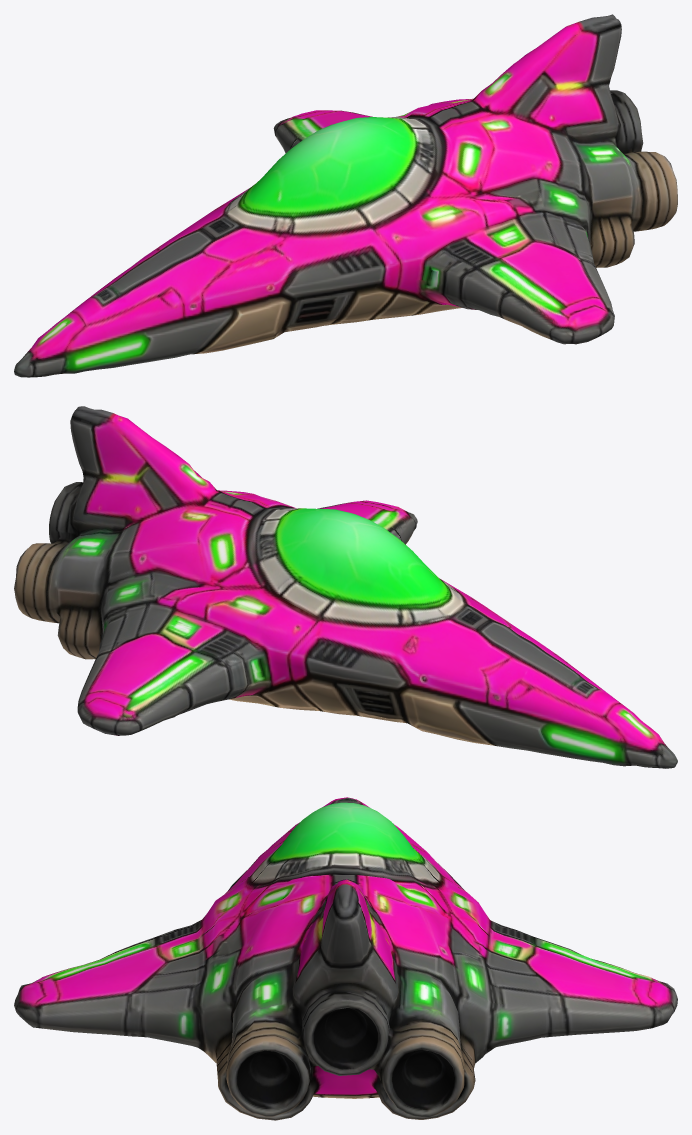
File: nave.glb
3 renders of one model, top to bottom at view 1: azimuth 30°, elevation 25°; view 2: azimuth 150°, elevation 25°; view 3: azimuth 270°, elevation 25°, orthographic. The views are drawn at different scales.
Visible parts, largest first — view 1: e75c93d927d6d44dd3568c83f9c18:Mesh; view 2: e75c93d927d6d44dd3568c83f9c18:Mesh; view 3: e75c93d927d6d44dd3568c83f9c18:Mesh.
Part boxes in pixels (x1,y1,x2,y2): e75c93d927d6d44dd3568c83f9c18:Mesh: (14, 14, 677, 377); e75c93d927d6d44dd3568c83f9c18:Mesh: (14, 406, 677, 768); e75c93d927d6d44dd3568c83f9c18:Mesh: (14, 797, 677, 1120).
Size of the model in its own units: 2.65 by 0.9214 by 2.19.
Materials: 1 (1 with a texture image).
